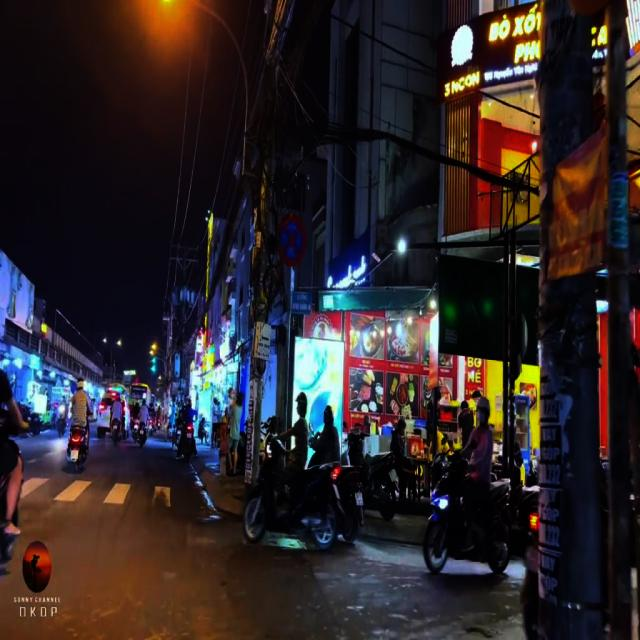cam_dung_xe_va_do_xe: (275, 212, 306, 267)
